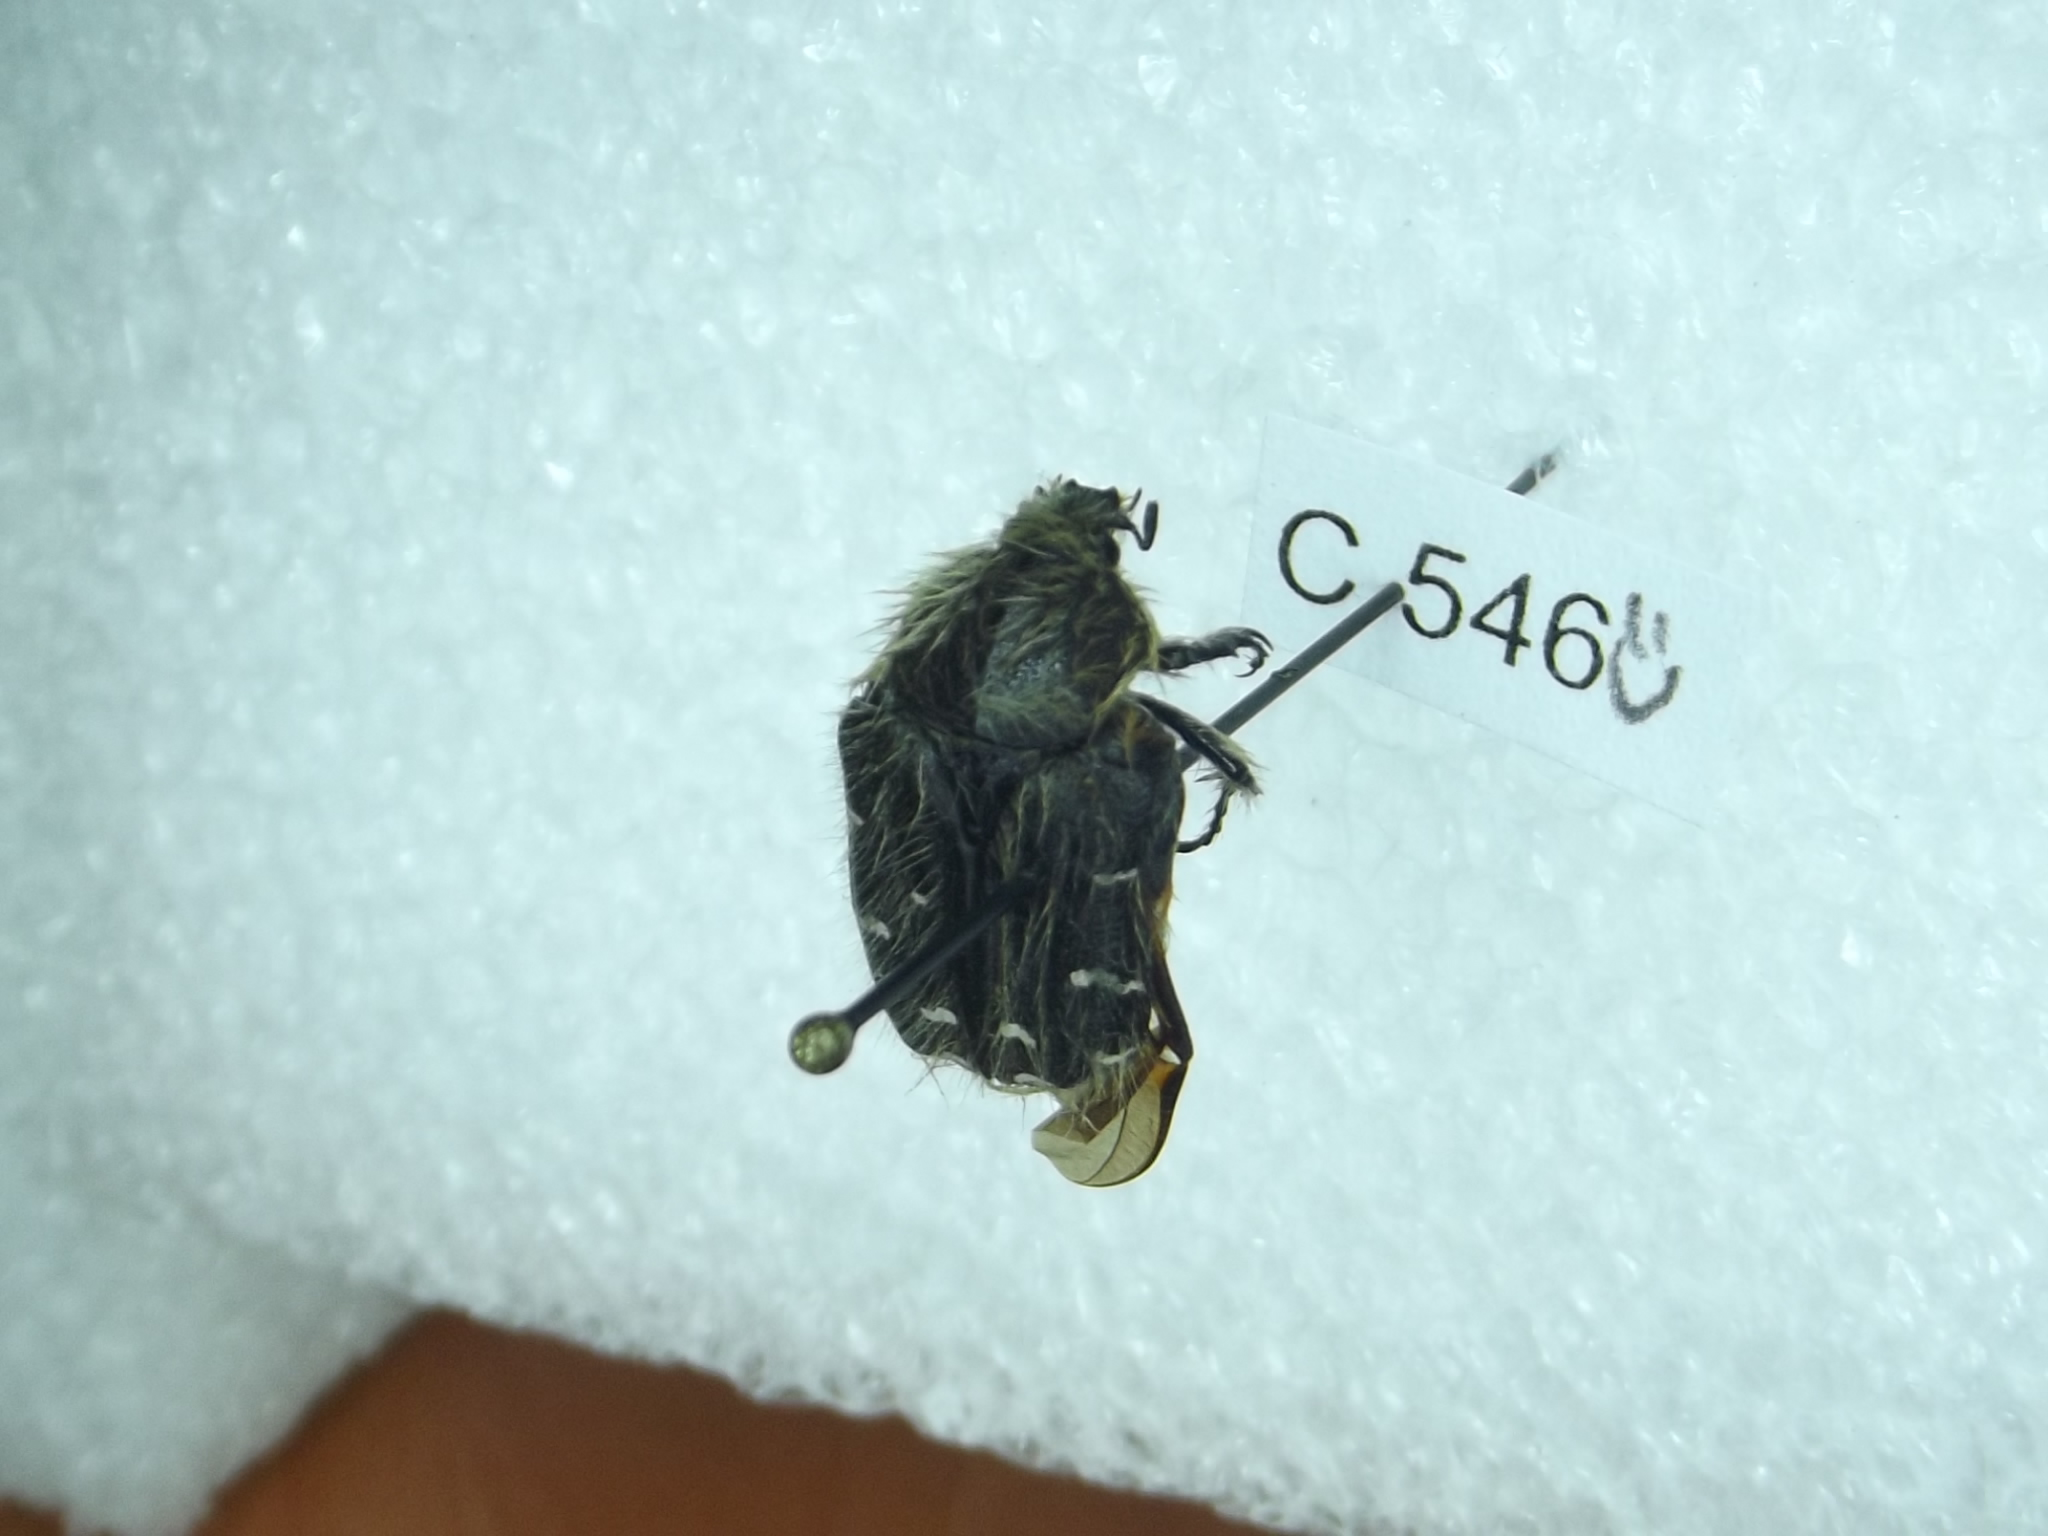Tropinota_senicula: (819, 444, 1284, 1207)
